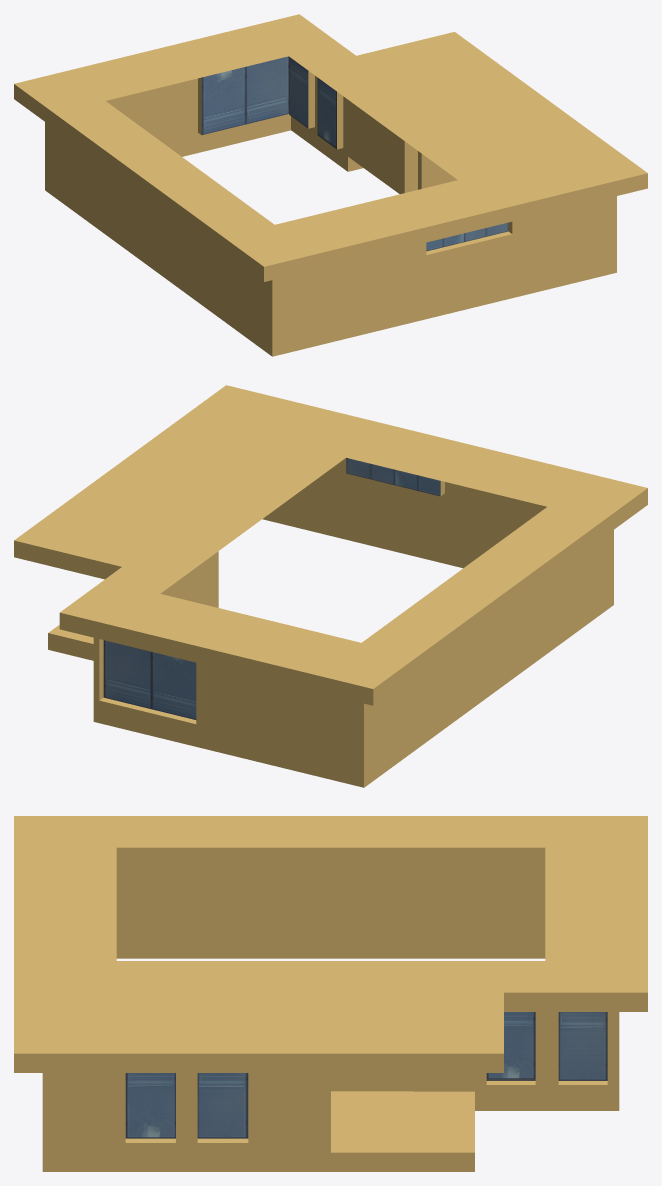
The model's file is Sci-Fi_Tower_Base.fbx.
3 views of the same model, one above another, from view 1: azimuth 30°, elevation 25°; view 2: azimuth 150°, elevation 25°; view 3: azimuth 270°, elevation 25° (orthographic). The views are drawn at different scales.
Parts seen in each view (by area): view 1: Plane; view 2: Plane; view 3: Plane.
Boxes of the visible parts, x1,y1,x2,y2 form: Plane: (14, 14, 647, 356); Plane: (14, 385, 647, 787); Plane: (14, 816, 647, 1171).
Size of the model in its own units: 11.7 by 3 by 13.2.
